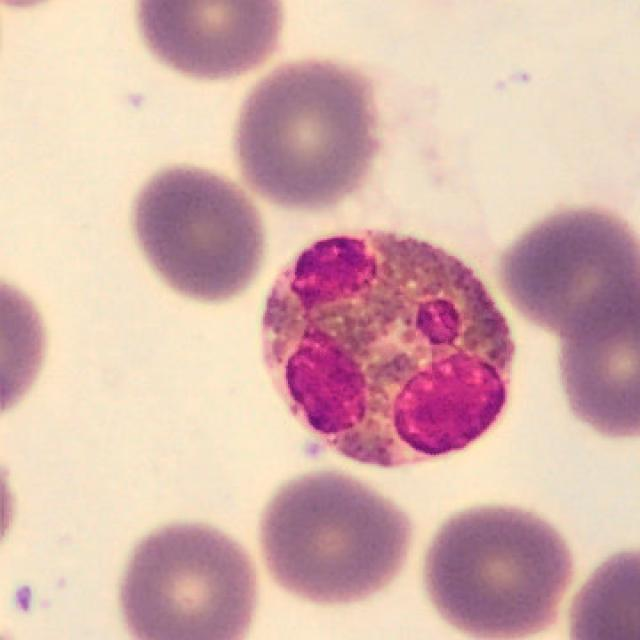Eosinofilo: (261, 231, 516, 471)
